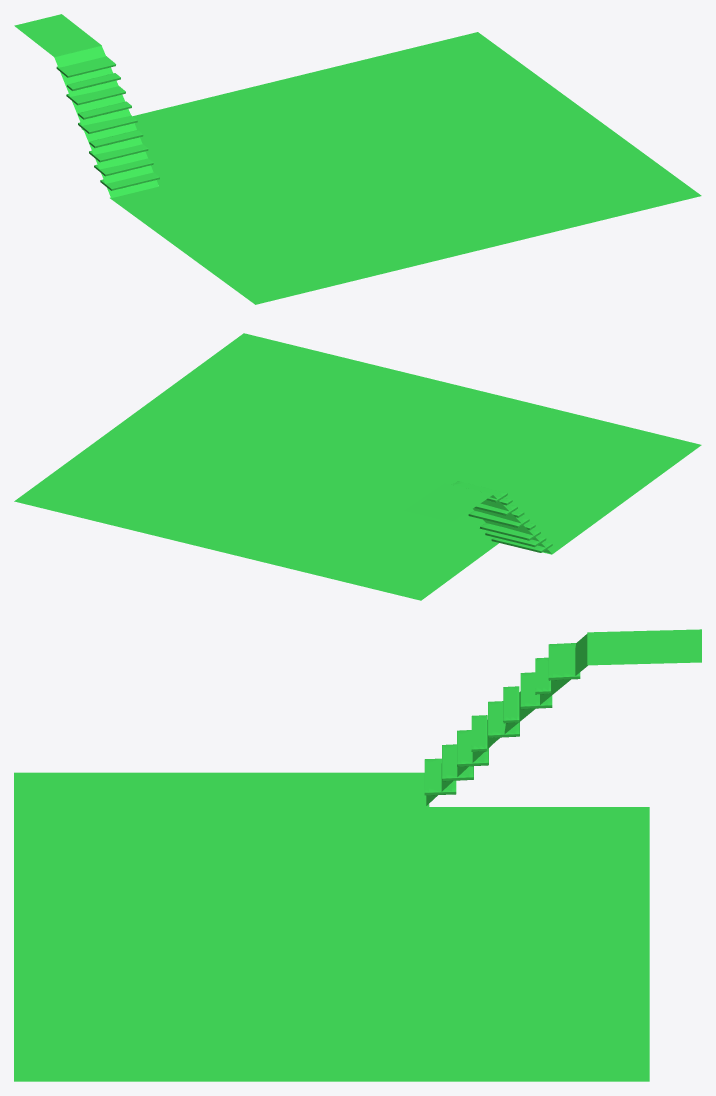
File: Navmesh05.glb
3 views of the same model, one above another, from view 1: azimuth 30°, elevation 25°; view 2: azimuth 150°, elevation 25°; view 3: azimuth 270°, elevation 25° (orthographic). The views are drawn at different scales.
Visible parts, largest first — view 1: Plane, smooth_step_8_2, smooth_step_6, smooth_step_4, smooth_step_0, smooth_step_2; view 2: Plane, smooth_step_2, smooth_step_4; view 3: Plane, smooth_step_8_2, smooth_step_0, smooth_step_6, smooth_step_4, smooth_step_2, smooth_step_1.
Part boxes in pixels (x1,y1,x2,y2): Plane: [14, 14, 701, 304]; smooth_step_8_2: [56, 56, 115, 77]; smooth_step_6: [66, 86, 125, 105]; smooth_step_4: [78, 115, 137, 133]; smooth_step_0: [100, 172, 159, 190]; smooth_step_2: [89, 144, 148, 162]; Plane: [14, 333, 701, 600]; smooth_step_2: [479, 523, 540, 540]; smooth_step_4: [468, 510, 529, 527]; Plane: [14, 629, 701, 1081]; smooth_step_8_2: [548, 643, 580, 680]; smooth_step_0: [424, 758, 456, 795]; smooth_step_6: [520, 672, 552, 709]; smooth_step_4: [488, 701, 519, 737]; smooth_step_2: [457, 730, 488, 766]; smooth_step_1: [442, 744, 473, 781].
Size of the model in its own units: 13.81 by 3.02 by 12.99.
